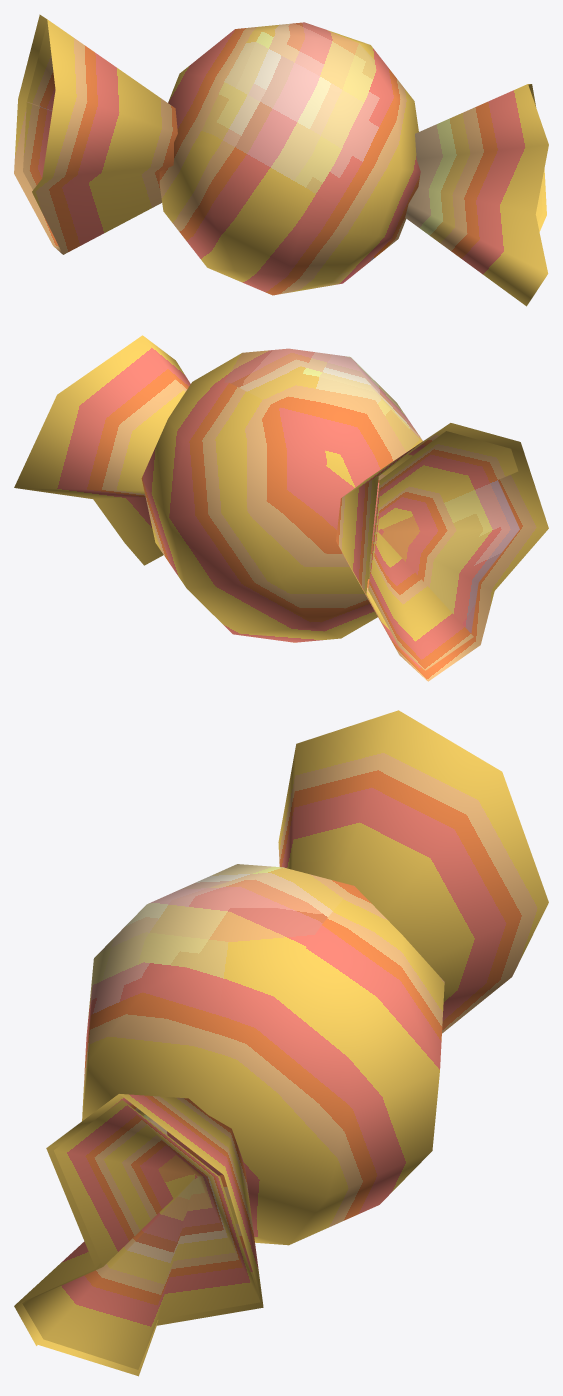
The model's file is fg_candy.dae.
3 renders of one model, top to bottom at view 1: azimuth 30°, elevation 25°; view 2: azimuth 150°, elevation 25°; view 3: azimuth 270°, elevation 25°, orthographic. The views are drawn at different scales.
Visible parts, largest first — view 1: _0_0; view 2: _0_0; view 3: _0_0.
Boxes of the visible parts, x1,y1,x2,y2 form: _0_0: (14,14,548,306); _0_0: (14,335,548,681); _0_0: (14,710,548,1376).
Size of the model in its own units: 17.48 by 9.84 by 11.56.
Materials: 1 (1 with a texture image).
